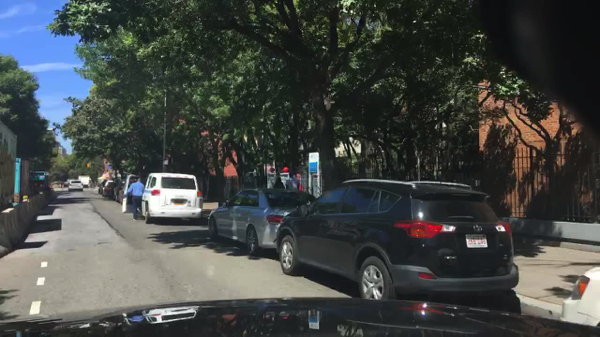car: (278, 177, 522, 303), (208, 188, 320, 257), (121, 171, 207, 225), (558, 265, 599, 330), (113, 178, 131, 204), (102, 180, 117, 198), (69, 180, 83, 192), (98, 180, 109, 195), (51, 182, 61, 191), (62, 181, 68, 187)
person: (124, 176, 147, 220)
traffic light: (87, 163, 90, 169)
traffic sign: (307, 152, 320, 176), (38, 176, 45, 181), (108, 165, 113, 170)
truck: (80, 175, 90, 187)
